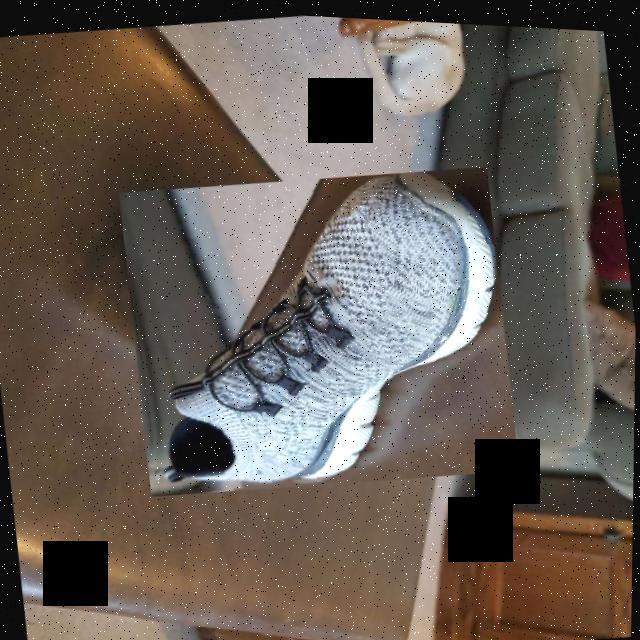shoe: (116, 146, 524, 509)
